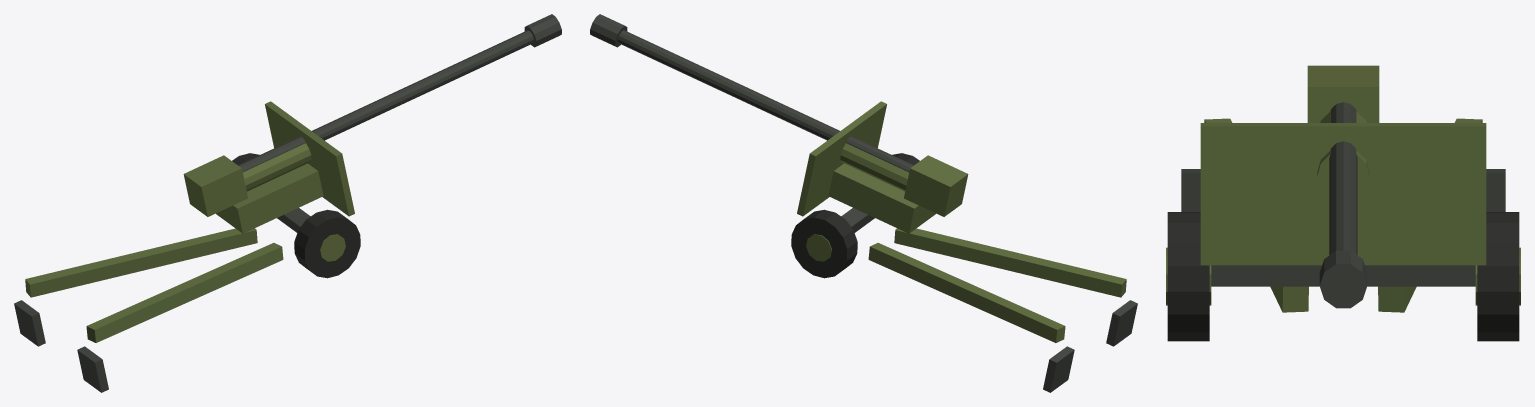
File: artillery.glb
The picture shows the model from 3 angles, left to right: view 1: azimuth 30°, elevation 25°; view 2: azimuth 150°, elevation 25°; view 3: azimuth 270°, elevation 25°; orthographic projection. The views are drawn at different scales.
Parts seen in each view (by area): view 1: Artillery; view 2: Artillery; view 3: Artillery.
Boxes of the visible parts, x1=… form: Artillery: x1=14, y1=14, x2=561, y2=392; Artillery: x1=590, y1=14, x2=1137, y2=392; Artillery: x1=1166, y1=65, x2=1520, y2=341.
Bounding box in the file's own units: 9.76 × 4.22 × 2.98.
